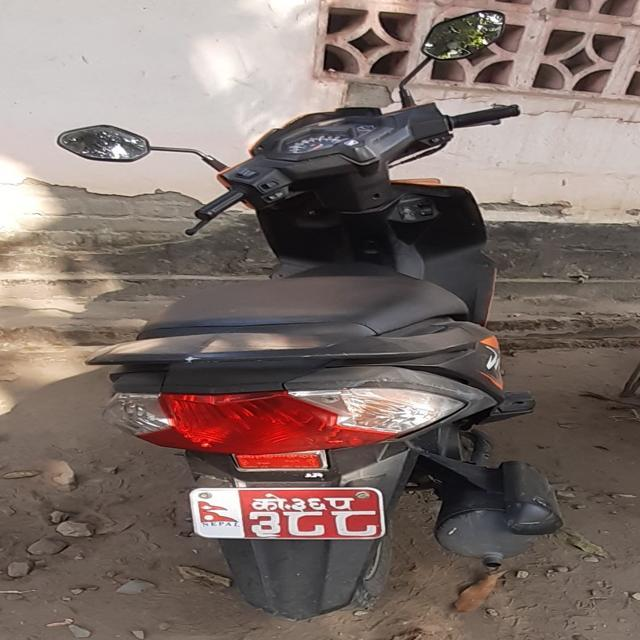license_plate: (176, 462, 400, 556)
